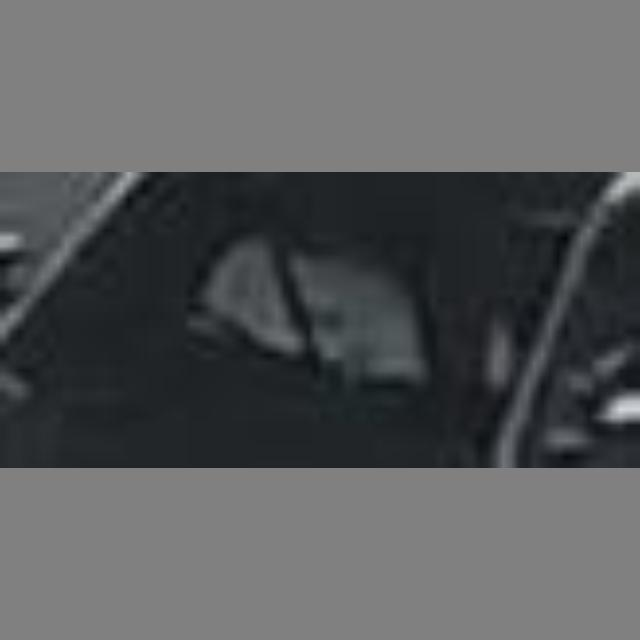pakai: (180, 234, 460, 414)
